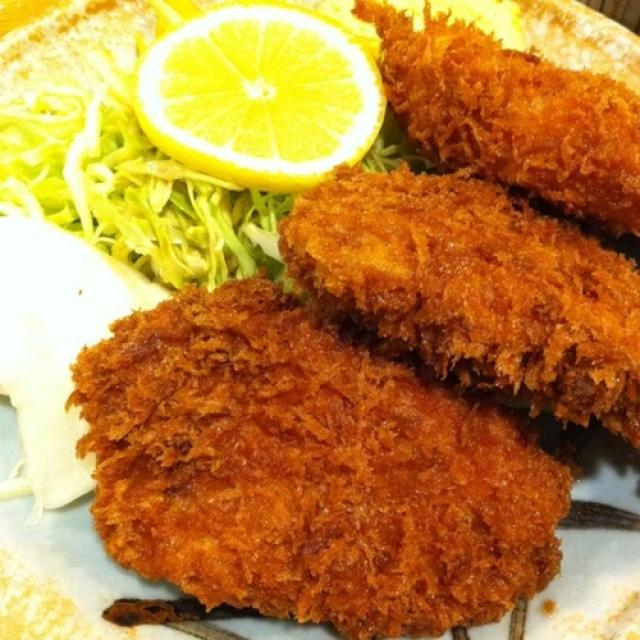牛肉菜式: (33, 8, 635, 626)
